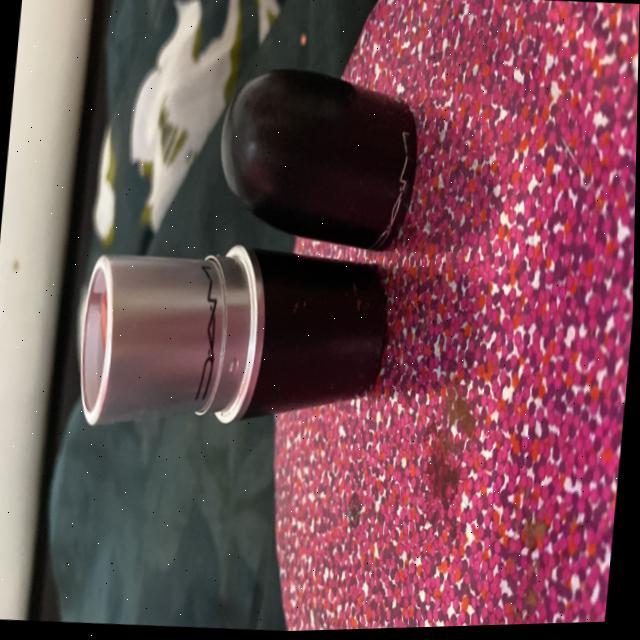lip stick: (44, 211, 400, 472)
